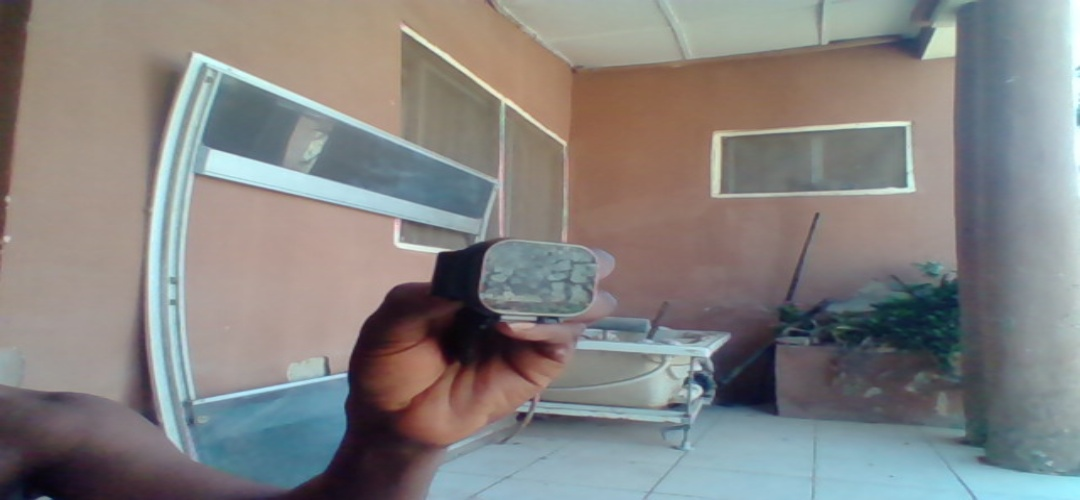smart_watch: (435, 236, 602, 326)
